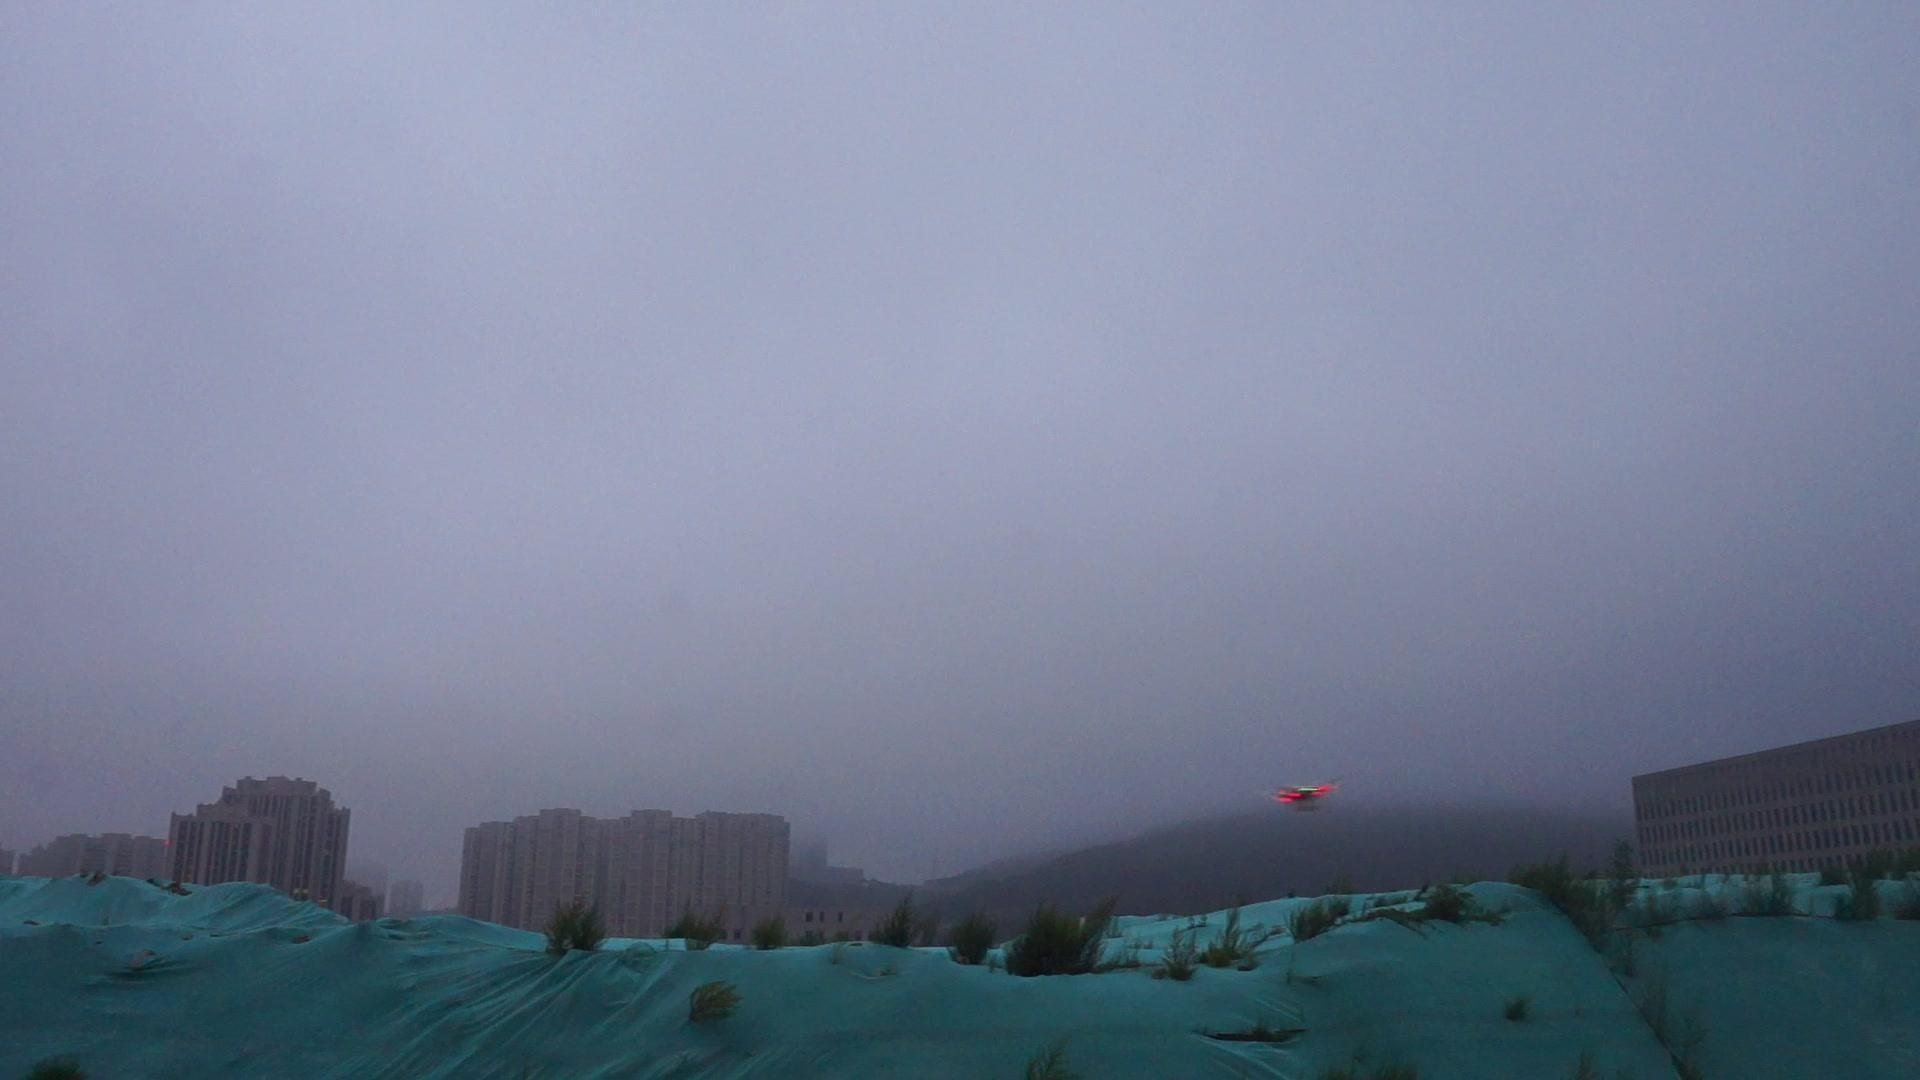UAV: (1271, 785, 1341, 816)
